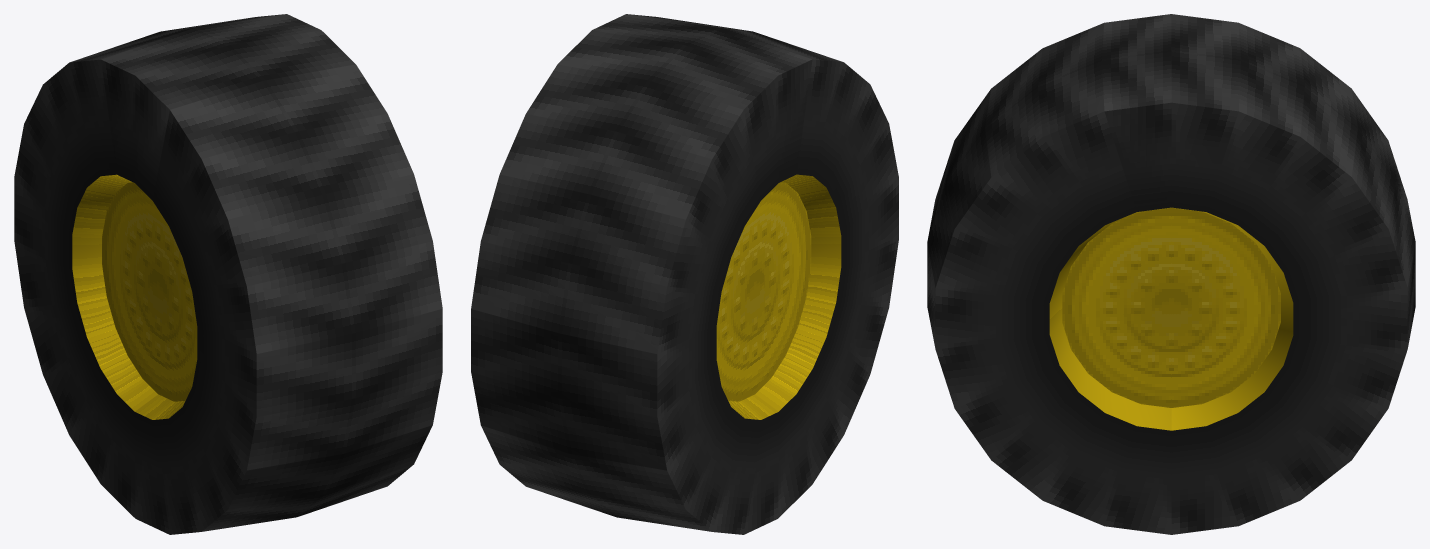
File: RuedaT.obj
The picture shows the model from 3 angles, left to right: view 1: azimuth 30°, elevation 25°; view 2: azimuth 150°, elevation 25°; view 3: azimuth 270°, elevation 25°; orthographic projection. The views are drawn at different scales.
Visible parts, largest first — view 1: Tractor; view 2: Tractor; view 3: Tractor.
Boxes of the visible parts, x1=… form: Tractor: x1=14, y1=14, x2=442, y2=534; Tractor: x1=471, y1=14, x2=898, y2=534; Tractor: x1=927, y1=14, x2=1415, y2=534.
Bounding box in the file's own units: 0.4573 × 1.07 × 1.06.
